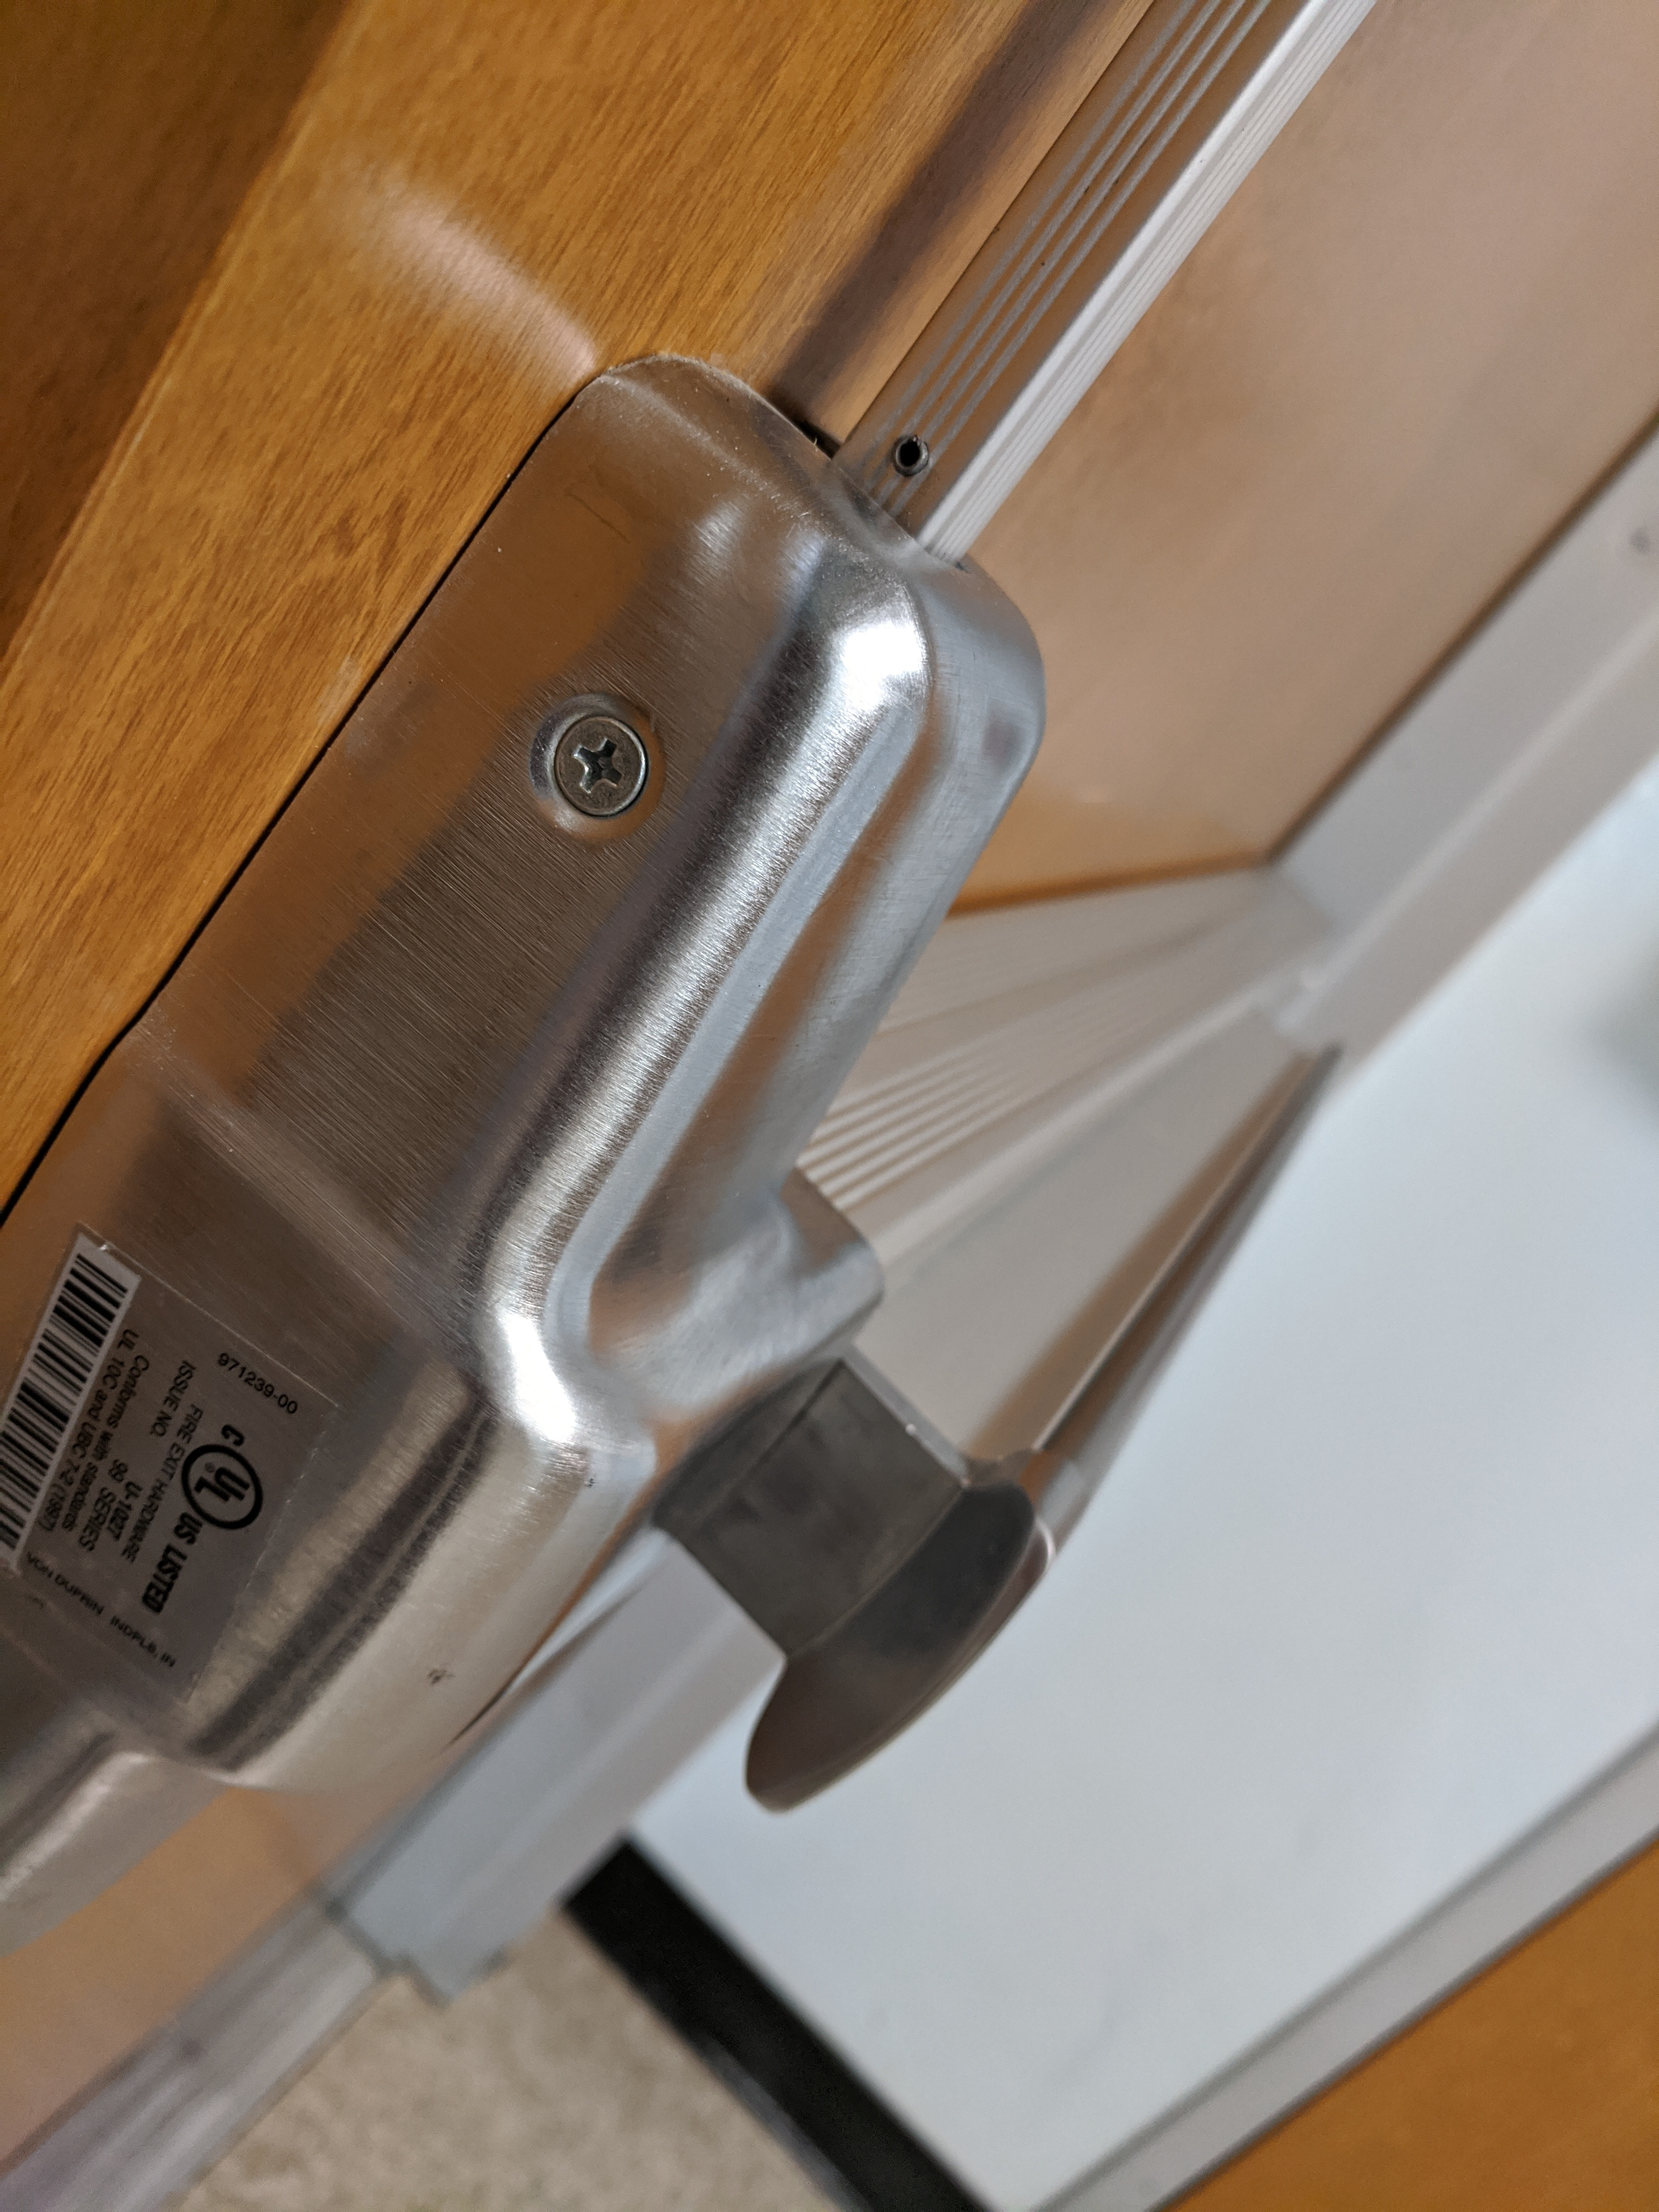cross_recessed_screw: (549, 691, 657, 827)
